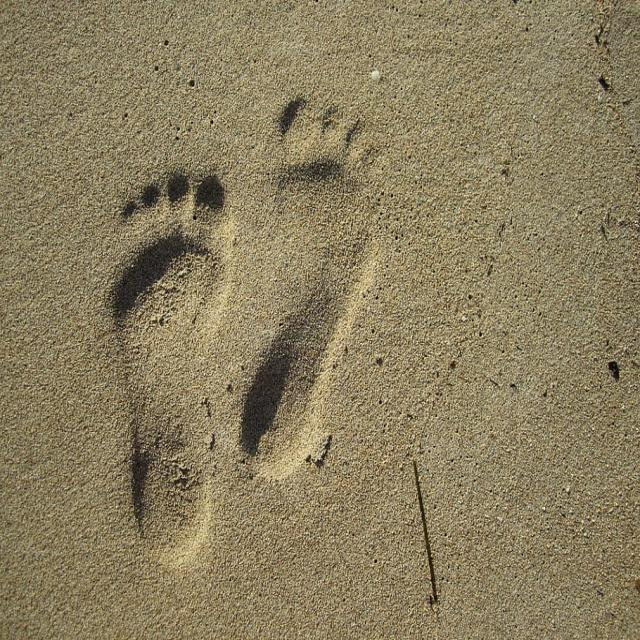human_foot_print: (51, 63, 452, 610)
